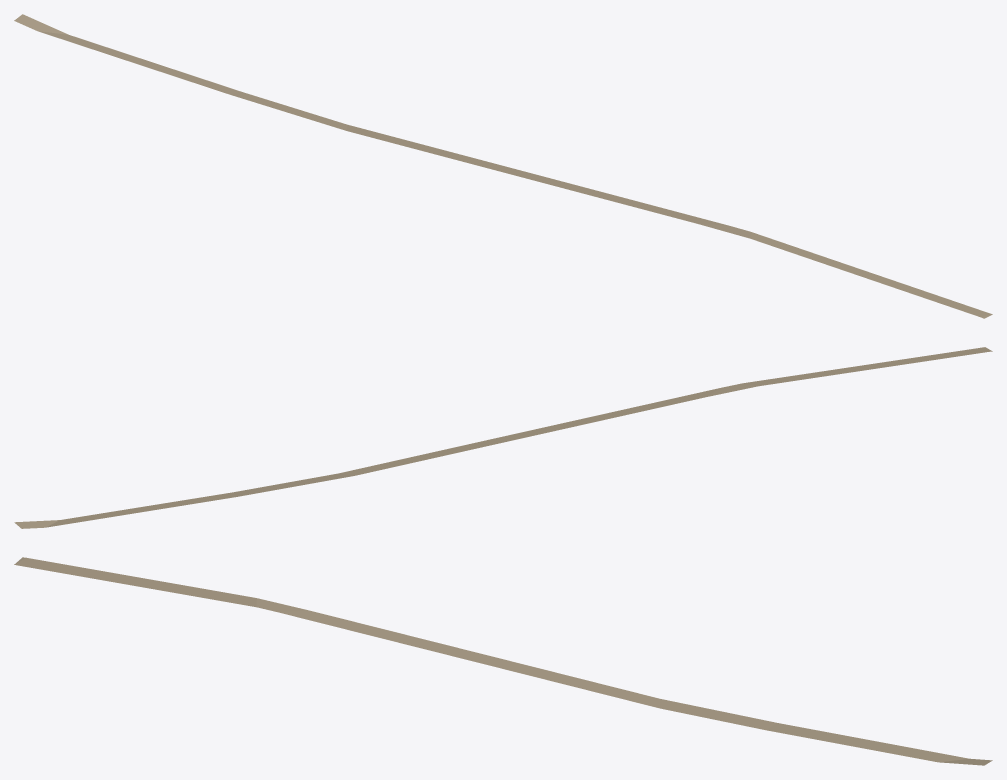
The model's file is farm_-1_5_track.glb.
3 views of the same model, one above another, from view 1: azimuth 90°, elevation 25°; view 2: azimuth 150°, elevation 25°; view 3: azimuth 270°, elevation 25° (orthographic). The views are drawn at different scales.
Visible parts, largest first — view 1: geometry_0; view 2: geometry_0; view 3: geometry_0.
Boxes of the visible parts, x1,y1,x2,y2 form: geometry_0: (14, 14, 992, 318); geometry_0: (14, 347, 992, 528); geometry_0: (14, 557, 992, 765).
Bounding box in the file's own units: 120 × 10.89 × 194.
